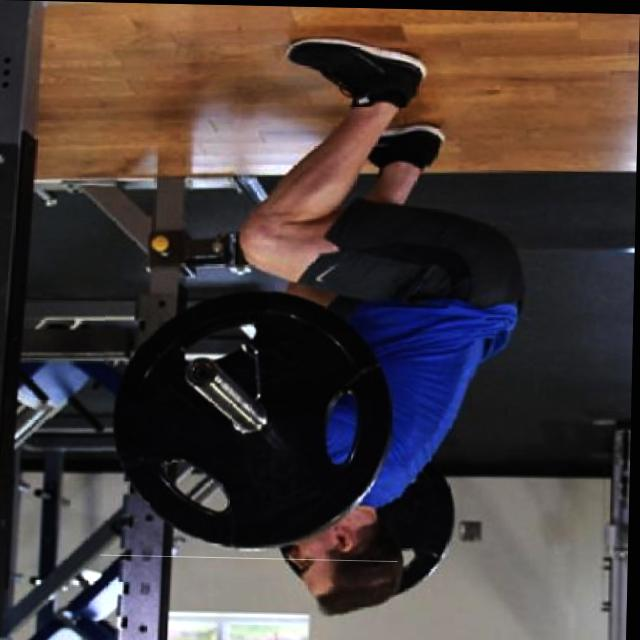barbell: (104, 279, 406, 561)
